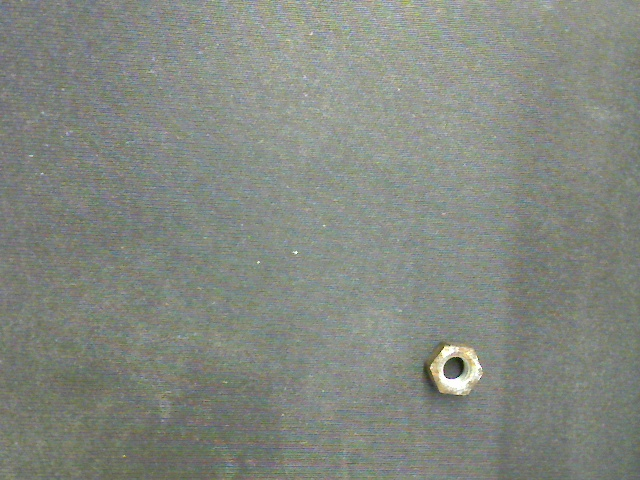Nut: (426, 342, 483, 396)
